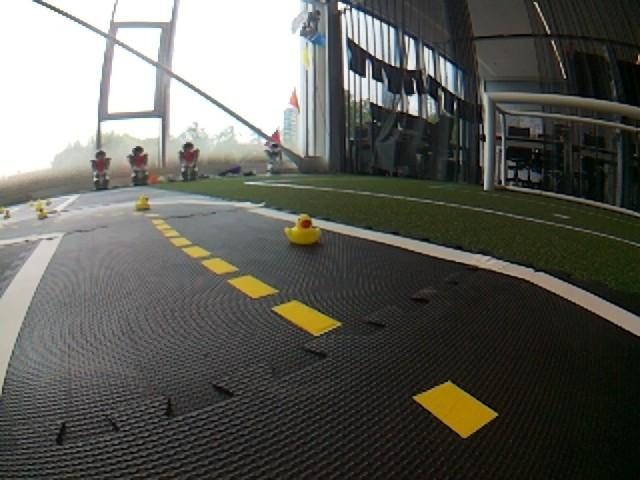Duckies: (282, 215, 322, 245), (135, 196, 151, 210), (38, 207, 48, 220), (3, 209, 11, 219), (37, 202, 44, 211), (46, 198, 52, 206), (28, 200, 34, 207)
